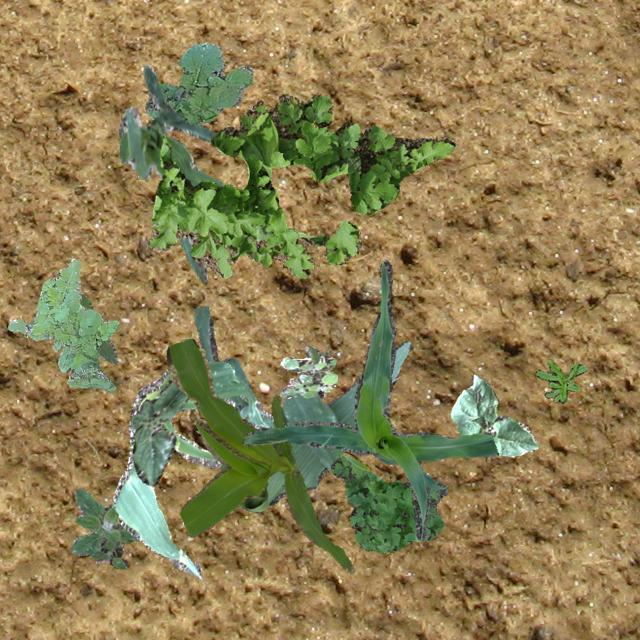crop: (240, 258, 498, 540), (194, 306, 412, 512), (165, 338, 354, 574), (112, 360, 274, 578), (117, 63, 223, 284), (450, 374, 538, 456), (130, 378, 188, 484)
weed: (148, 92, 454, 278), (7, 258, 118, 392), (329, 454, 444, 552), (144, 41, 252, 122), (70, 488, 138, 568), (278, 344, 336, 398), (78, 292, 118, 363), (534, 358, 586, 402)
